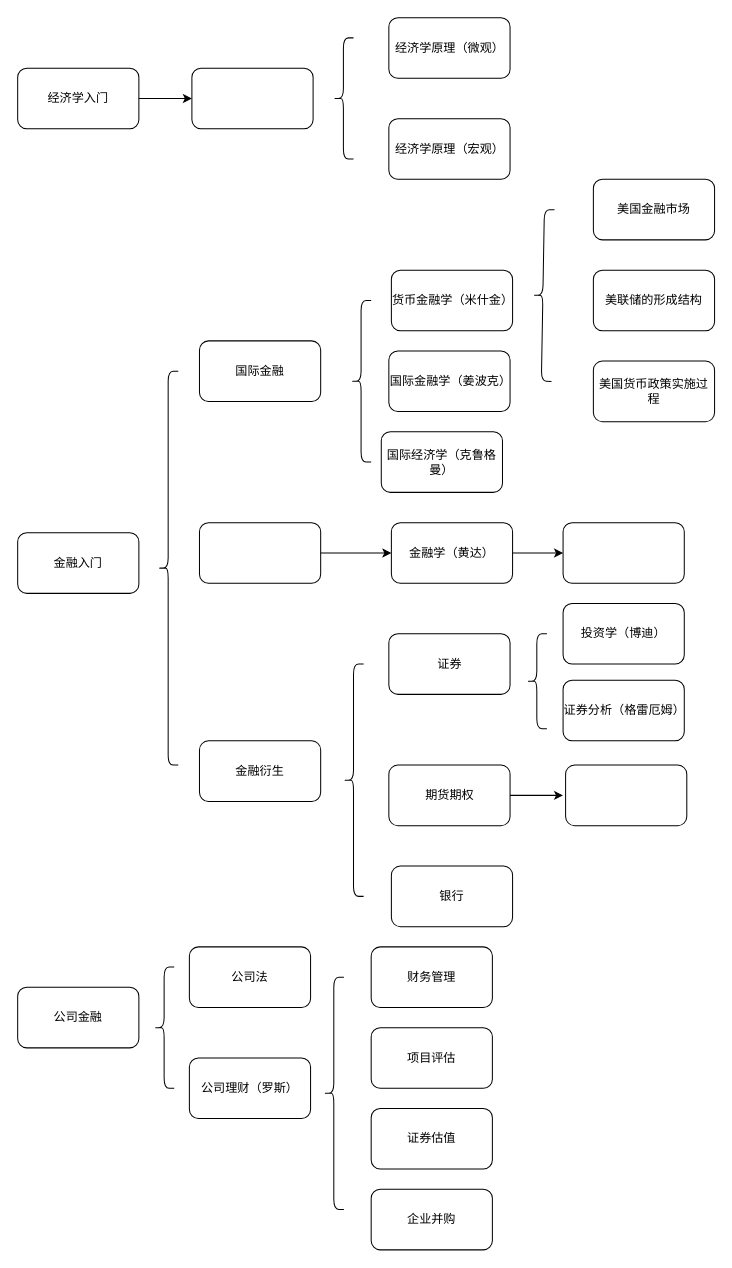
This 732x1268 diagram has some shape labels left out. Each missing label, with the box of its shape:
中国金融系统的形成和发展: (562, 522, 684, 583)
国内金融: (198, 522, 321, 583)
期权、期货及其他衍生产品（约翰赫尔）: (565, 764, 687, 826)
经济学基础: (191, 67, 313, 129)
